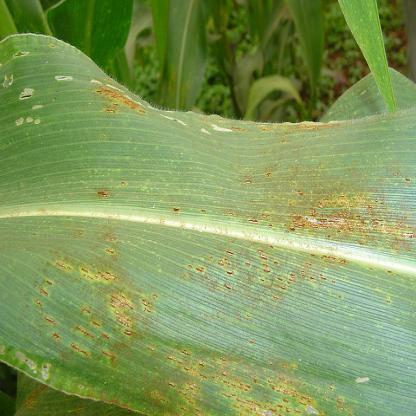Corn rust leaf: (8, 28, 416, 415)
